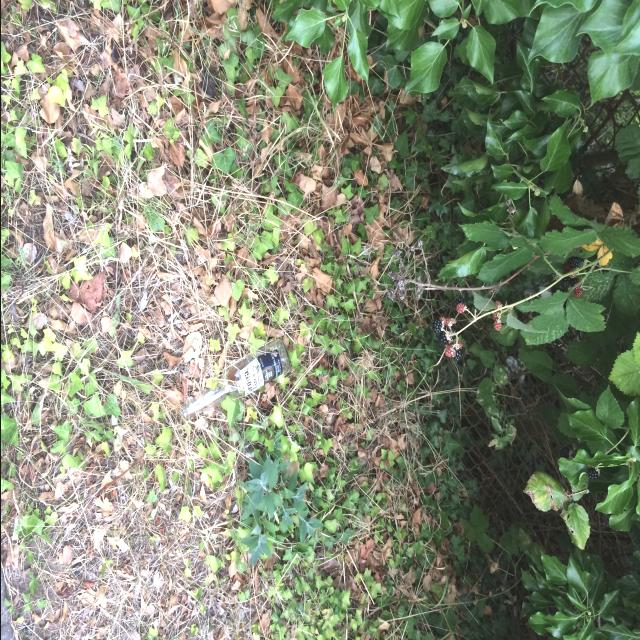Glass bottle: (180, 338, 289, 421)
